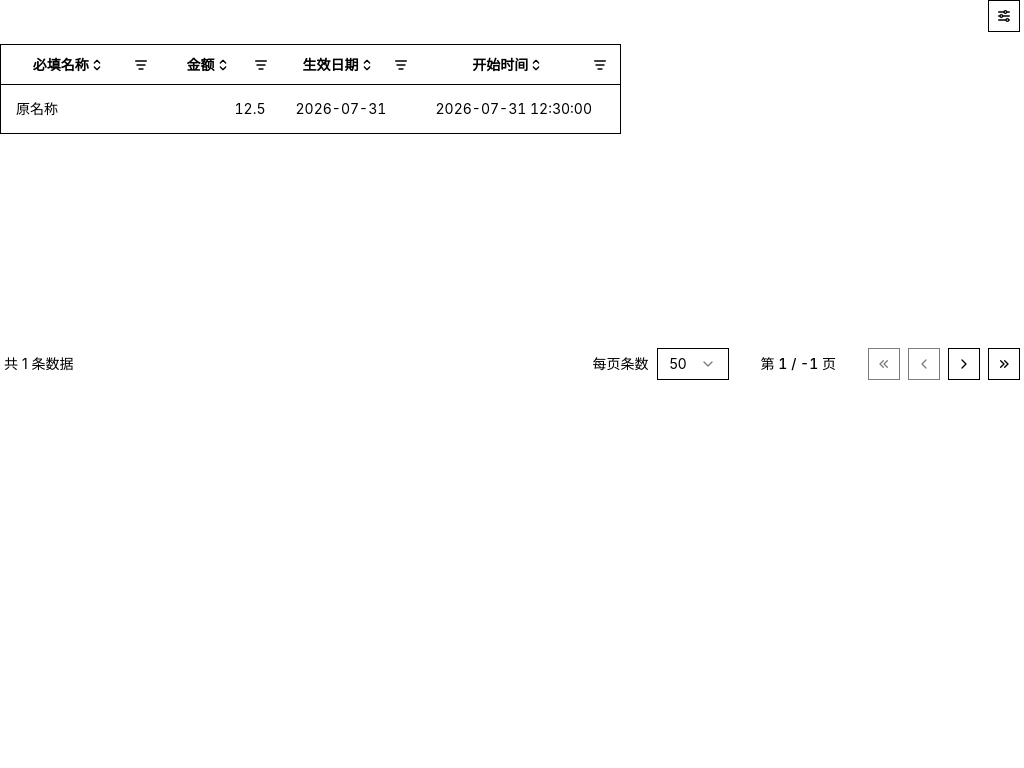
DataTable cell selection › validates a printable effectiveDate draft without restoring the removed full-text input
This screenshot has width=1024, height=768.
Click the cell "2026-07-31" at point(350, 109), box 280,85 -> 420,133
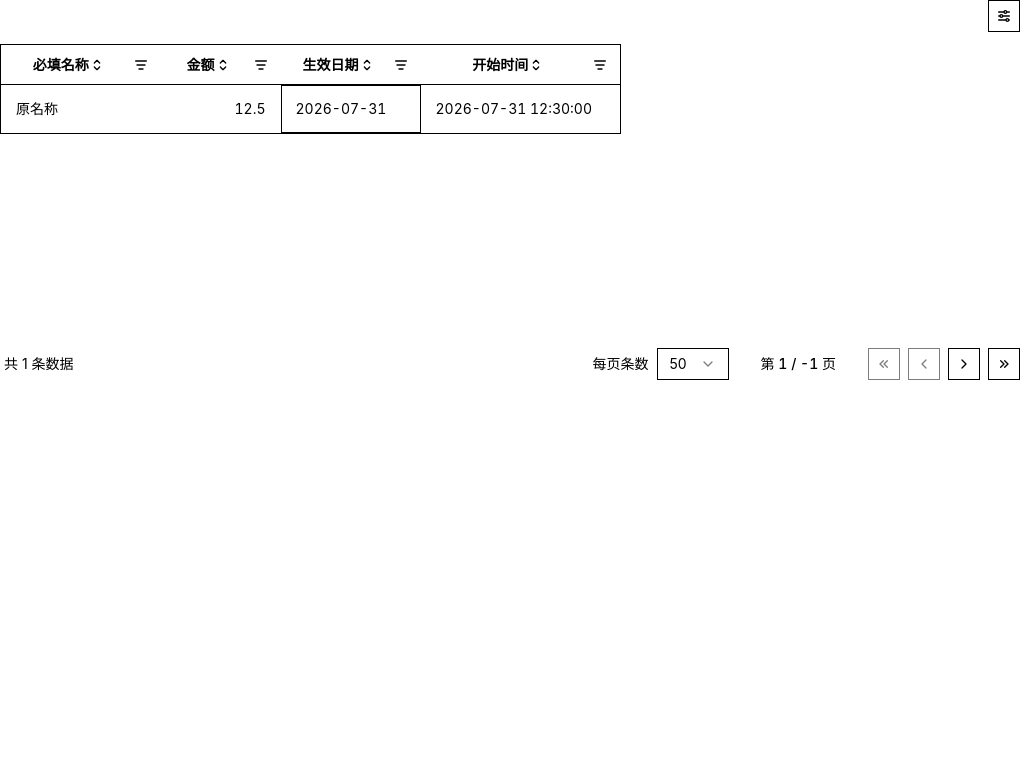
Press 2 in the cell "2026-07-31", box 280,85 -> 420,133
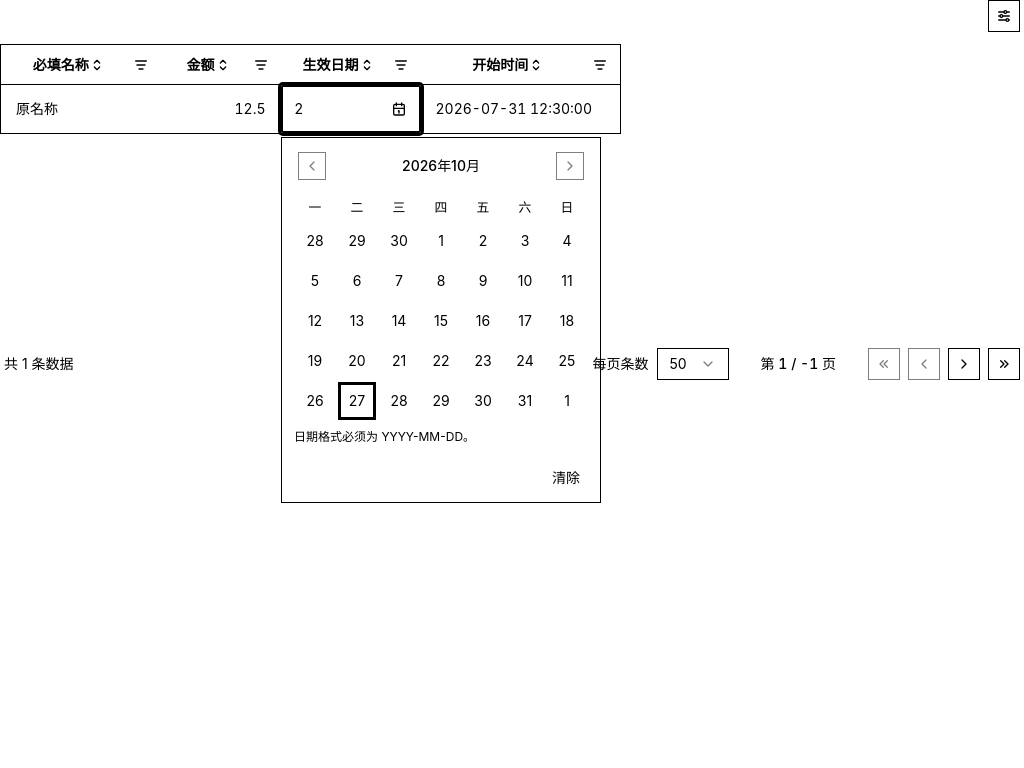
Result: the dialog named "生效日期日历" is shown at 281,137 -> 601,503
Result: the message reads "日期格式必须为 YYYY-MM-DD。" at 294,429 -> 475,444
